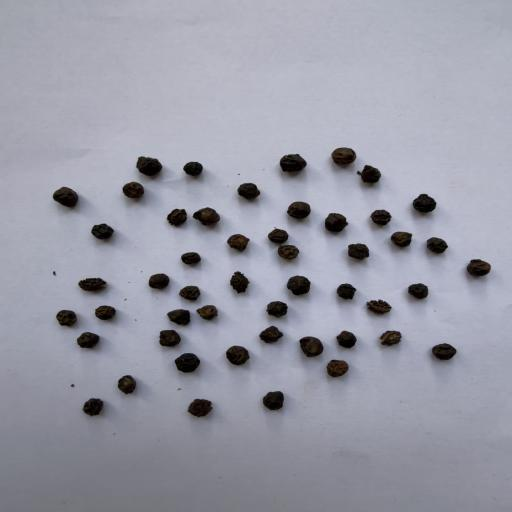Black_pepper: (167, 350, 214, 379), (110, 369, 150, 401), (457, 256, 498, 286), (47, 182, 87, 211), (67, 328, 111, 354), (340, 238, 380, 266), (383, 226, 420, 256), (256, 381, 290, 413), (279, 148, 312, 180), (140, 328, 189, 349), (130, 151, 169, 177), (423, 336, 459, 364), (114, 178, 154, 203), (284, 270, 321, 297), (409, 192, 444, 220), (76, 394, 108, 424), (285, 192, 314, 225), (169, 245, 207, 270), (334, 329, 366, 358), (262, 297, 300, 321), (356, 165, 391, 191), (133, 272, 174, 294), (296, 333, 328, 360), (322, 359, 363, 380), (227, 338, 253, 371), (188, 393, 215, 424), (88, 222, 119, 248), (222, 229, 250, 257), (236, 182, 273, 203), (51, 302, 82, 327), (92, 300, 124, 324), (405, 280, 441, 301), (423, 234, 457, 256), (180, 157, 211, 181), (261, 224, 298, 244), (330, 280, 358, 306), (329, 144, 359, 168), (323, 210, 353, 234), (192, 203, 222, 227), (367, 205, 397, 227), (196, 302, 226, 324), (178, 283, 214, 301), (162, 304, 191, 326), (254, 326, 289, 344), (277, 244, 304, 263)
papaya_seed: (362, 289, 399, 317), (226, 266, 256, 296), (379, 319, 406, 352), (76, 271, 114, 293), (162, 200, 190, 228)
